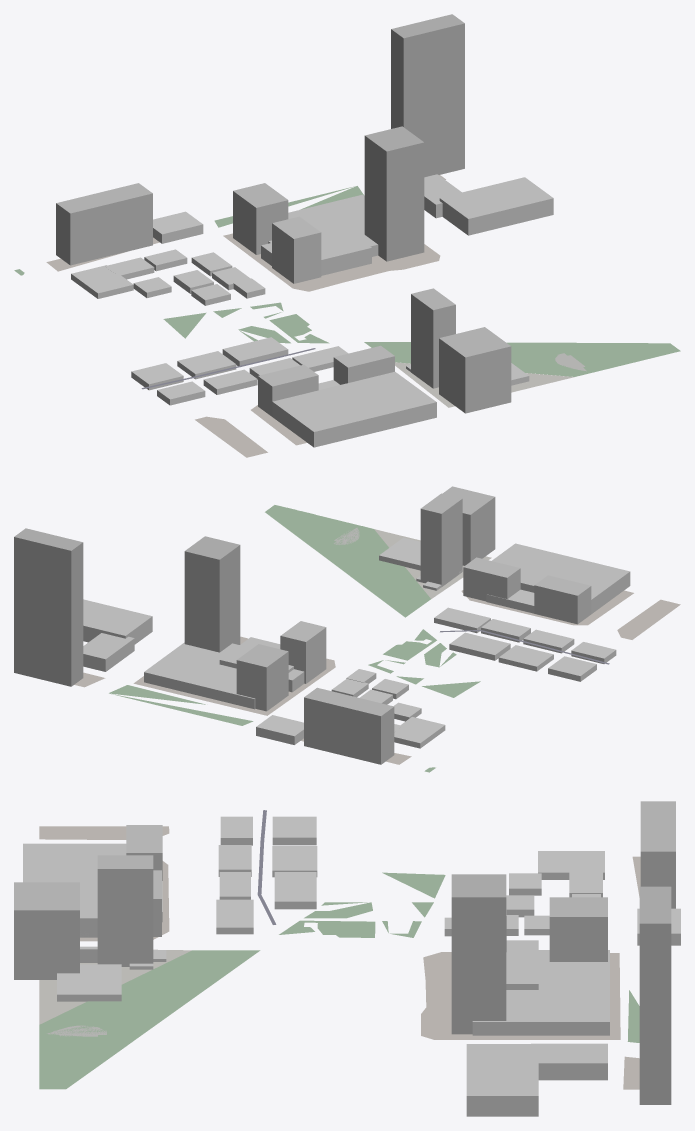
File: 119_78_mid.glb
3 views of the same model, one above another, from view 1: azimuth 30°, elevation 25°; view 2: azimuth 150°, elevation 25°; view 3: azimuth 270°, elevation 25° (orthographic). The views are drawn at different scales.
Size of the model in its own units: 567 by 161 by 534.
